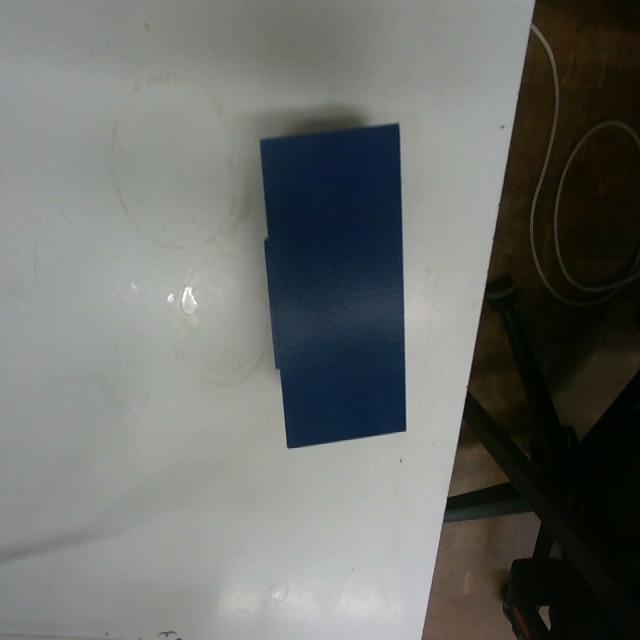Blue Cuboid: (256, 118, 409, 450)
